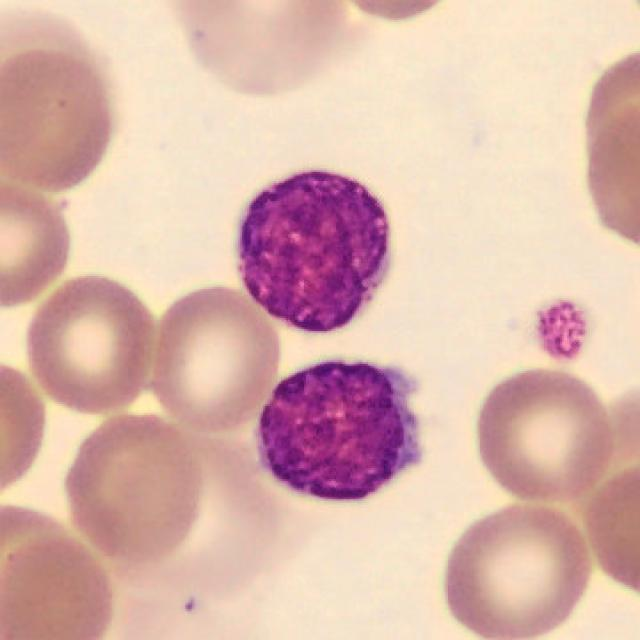Linfocito: (240, 172, 388, 329), (261, 362, 409, 497)
